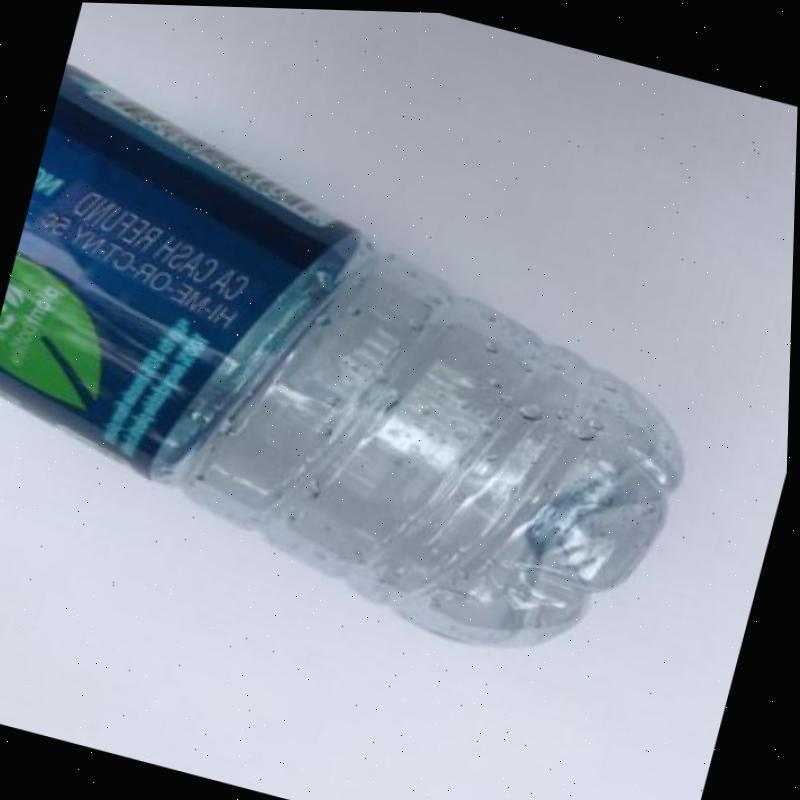botella: (0, 54, 750, 685)
